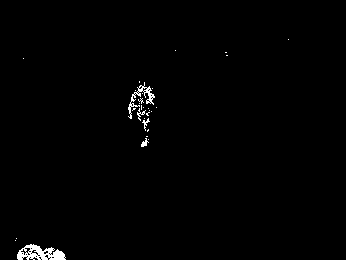person: (126, 78, 155, 148)
